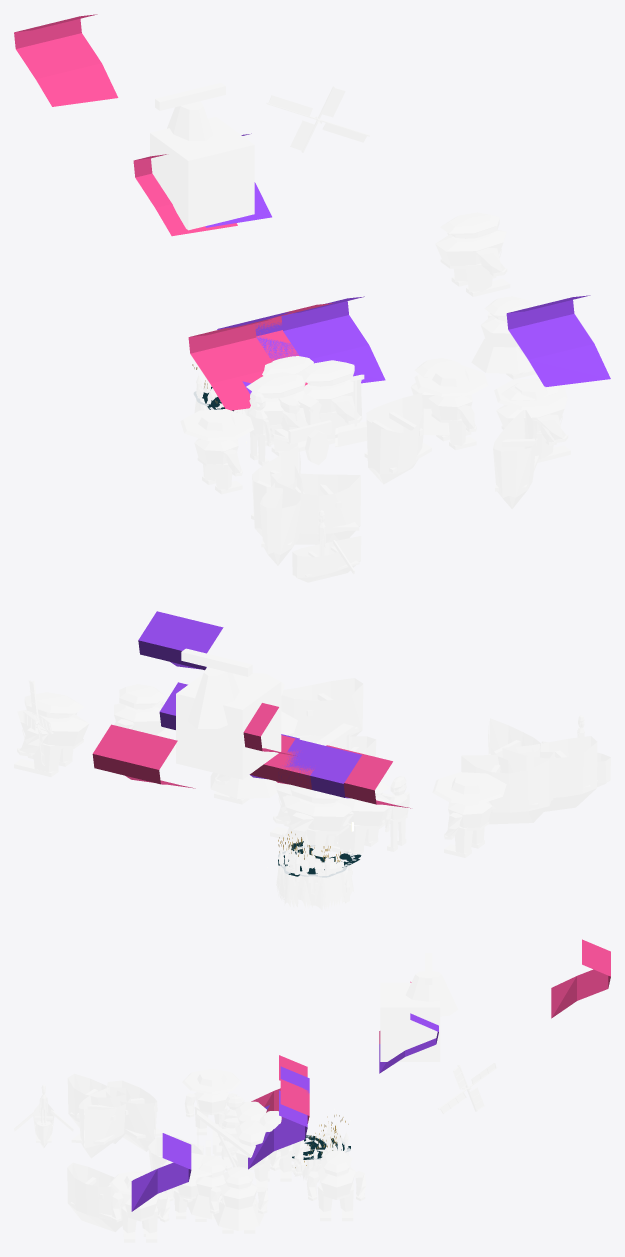
File: ile-port-v5.glb
3 renders of one model, top to bottom at view 1: azimuth 30°, elevation 25°; view 2: azimuth 150°, elevation 25°; view 3: azimuth 270°, elevation 25°, orthographic. The views are drawn at different scales.
Visible parts, largest first — view 1: ile_anime8, ile_banniere6, ile_banniere7, ile_banniere1, ile_banniere0, ile_copie5, ile_anime1, ile_anime2, ile_copie4, ile_anime15, ile_copie0, ile_anime3 (+16 smaller); view 2: ile_anime7, ile_copie5, ile_anime0, ile_anime3, ile_copie4, ile_corps, ile_anime4, ile_banniere6, ile_anime13, ile_anime6, ile_banniere7, ile_banniere2 (+16 smaller); view 3: ile_anime7, ile_anime14, ile_copie5, ile_anime3, ile_anime1, ile_copie4, ile_banniere7, ile_banniere6, ile_anime0, ile_copie1, ile_anime12, ile_banniere1 (+19 smaller).
Part boxes in pixels (bbox=[...]): ile_anime8: bbox=[150, 124, 254, 230]; ile_banniere6: bbox=[14, 14, 118, 106]; ile_banniere7: bbox=[506, 295, 610, 386]; ile_banniere1: bbox=[281, 296, 385, 383]; ile_banniere0: bbox=[188, 319, 272, 410]; ile_copie5: bbox=[435, 212, 510, 296]; ile_anime1: bbox=[270, 472, 360, 544]; ile_anime2: bbox=[364, 393, 431, 484]; ile_copie4: bbox=[180, 409, 253, 494]; ile_anime15: bbox=[247, 391, 332, 465]; ile_copie0: bbox=[414, 365, 488, 450]; ile_anime3: bbox=[493, 410, 538, 508]; ile_anime7: bbox=[176, 673, 281, 779]; ile_copie5: bbox=[14, 692, 89, 776]; ile_anime0: bbox=[461, 751, 553, 824]; ile_anime3: bbox=[281, 678, 363, 736]; ile_copie4: bbox=[432, 772, 506, 857]; ile_corps: bbox=[276, 830, 354, 910]; ile_anime4: bbox=[502, 736, 597, 811]; ile_banniere6: bbox=[92, 724, 195, 788]; ile_anime13: bbox=[279, 784, 352, 857]; ile_anime6: bbox=[181, 648, 252, 728]; ile_banniere7: bbox=[138, 611, 223, 670]; ile_banniere2: bbox=[278, 738, 361, 798]; ile_anime7: bbox=[380, 982, 440, 1061]; ile_anime14: bbox=[209, 1167, 268, 1233]; ile_copie5: bbox=[306, 1150, 366, 1221]; ile_anime3: bbox=[67, 1162, 123, 1232]; ile_anime1: bbox=[71, 1087, 130, 1158]; ile_copie4: bbox=[182, 1069, 241, 1135]; ile_banniere7: bbox=[131, 1133, 191, 1211]; ile_banniere6: bbox=[551, 939, 610, 1018]; ile_anime0: bbox=[106, 1080, 164, 1151]; ile_copie1: bbox=[111, 1172, 170, 1242]; ile_anime12: bbox=[221, 1120, 280, 1190]; ile_banniere1: bbox=[248, 1090, 307, 1169].
Size of the model in its own units: 12.34 by 8.23 by 20.01.
